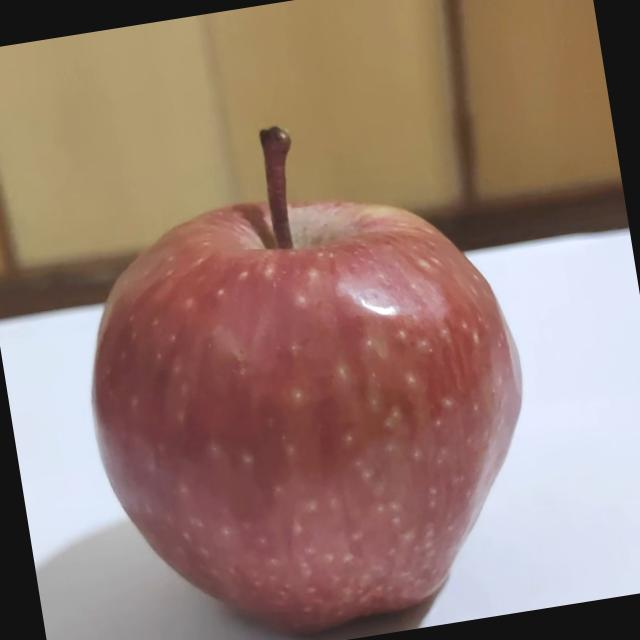apple: (8, 1, 640, 640)
